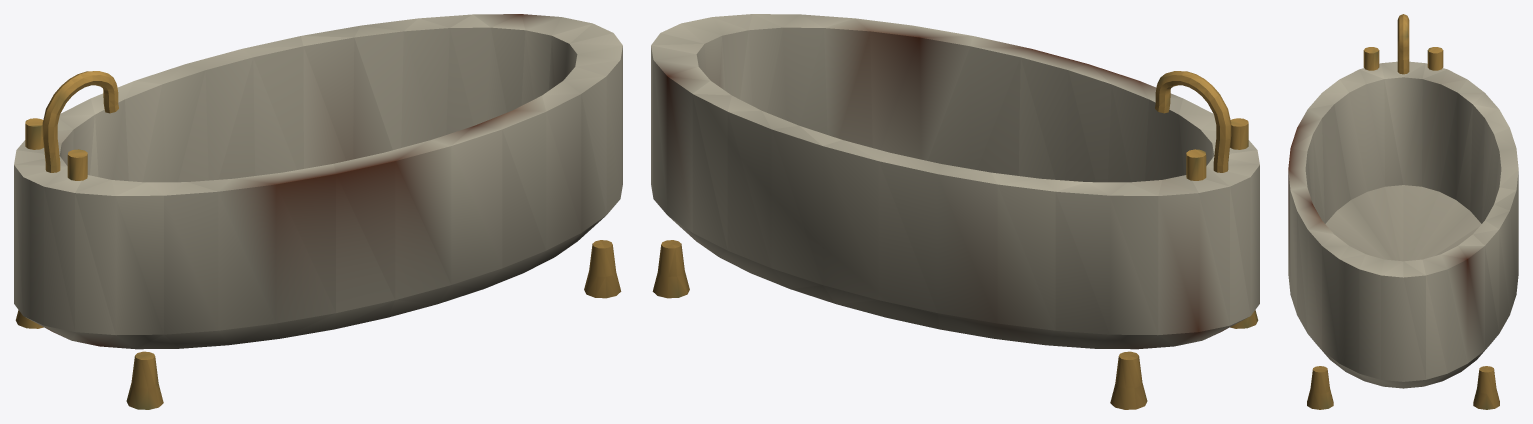
The model's file is Bathtub.glb.
The picture shows the model from 3 angles, left to right: view 1: azimuth 30°, elevation 25°; view 2: azimuth 150°, elevation 25°; view 3: azimuth 270°, elevation 25°; orthographic projection. The views are drawn at different scales.
Visible parts, largest first — view 1: Bathtub_enamel, Bathtub_brass; view 2: Bathtub_enamel, Bathtub_brass; view 3: Bathtub_enamel, Bathtub_brass.
Part boxes in pixels (box(x1,y1,x2,y2)): Bathtub_enamel: box(14, 14, 622, 349); Bathtub_brass: box(15, 71, 621, 409); Bathtub_enamel: box(651, 14, 1259, 349); Bathtub_brass: box(652, 71, 1258, 409); Bathtub_enamel: box(1288, 61, 1518, 388); Bathtub_brass: box(1307, 14, 1499, 409).
Bounding box in the file's own units: 8 × 3.76 × 3.6.
